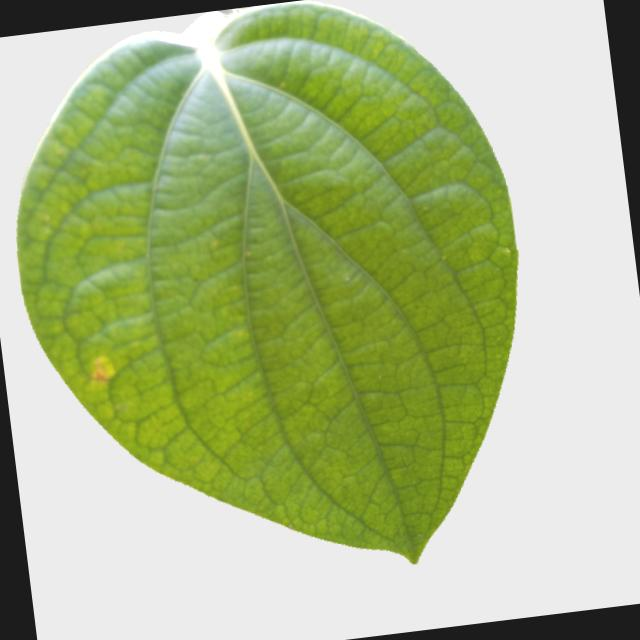healthy: (0, 0, 557, 613)
